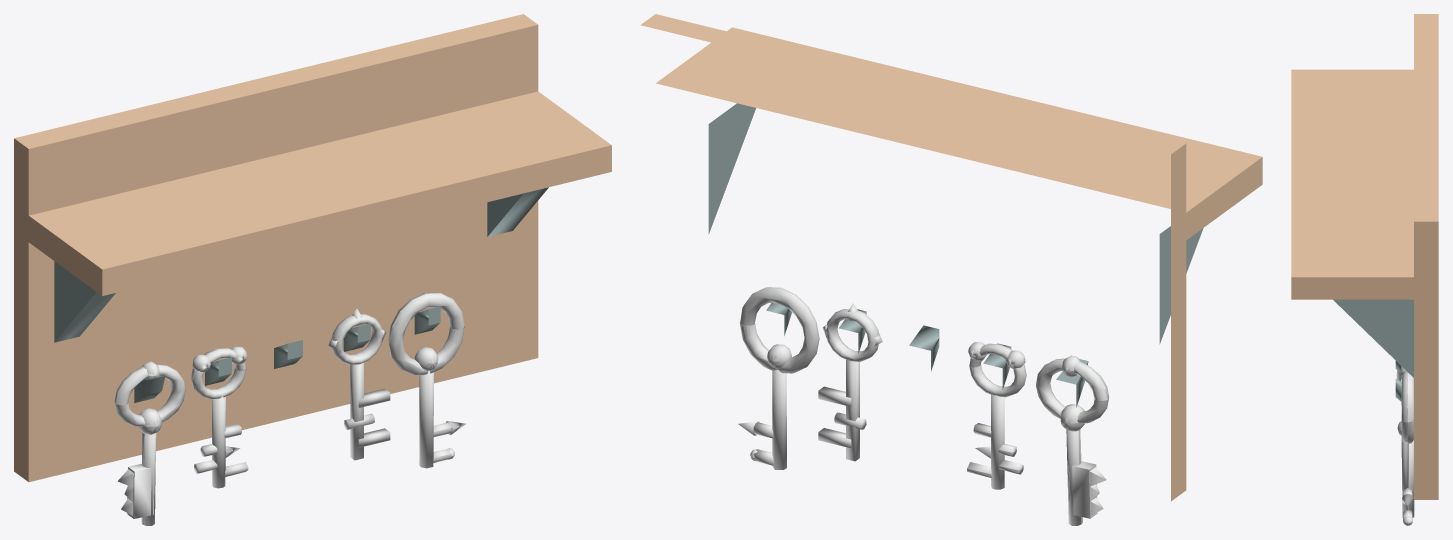
Rendered from chiavi.glb.
3 views of the same model, side by side, from view 1: azimuth 30°, elevation 25°; view 2: azimuth 150°, elevation 25°; view 3: azimuth 270°, elevation 25° (orthographic). The views are drawn at different scales.
Visible parts, largest first — view 1: chiavi, AnyConv.com__Key 04, AnyConv.com__Key 03, AnyConv.com__Key 09, AnyConv.com__Key 02; view 2: chiavi, AnyConv.com__Key 04, AnyConv.com__Key 03, AnyConv.com__Key 09, AnyConv.com__Key 02; view 3: chiavi, AnyConv.com__Key 04.
Boxes of the visible parts, x1,y1,x2,y2 form: chiavi: (14, 14, 611, 482); AnyConv.com__Key 04: (388, 292, 466, 468); AnyConv.com__Key 03: (114, 361, 185, 525); AnyConv.com__Key 09: (191, 346, 248, 488); AnyConv.com__Key 02: (328, 308, 390, 460); chiavi: (640, 14, 1262, 501); AnyConv.com__Key 04: (738, 287, 819, 469); AnyConv.com__Key 03: (1036, 355, 1109, 525); AnyConv.com__Key 09: (967, 342, 1026, 489); AnyConv.com__Key 02: (818, 303, 882, 461); chiavi: (1291, 14, 1438, 499); AnyConv.com__Key 04: (1397, 370, 1414, 525).
Size of the model in its own units: 0.448 by 0.3442 by 0.1344.
